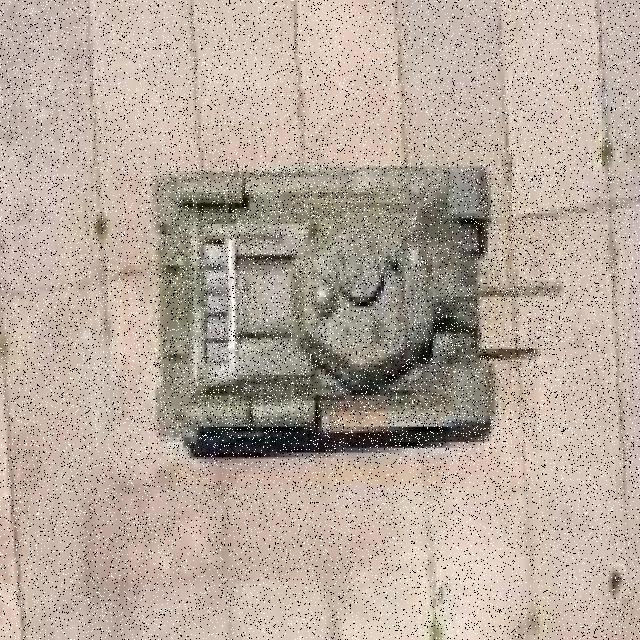MIL_MBT: (158, 163, 566, 451)
